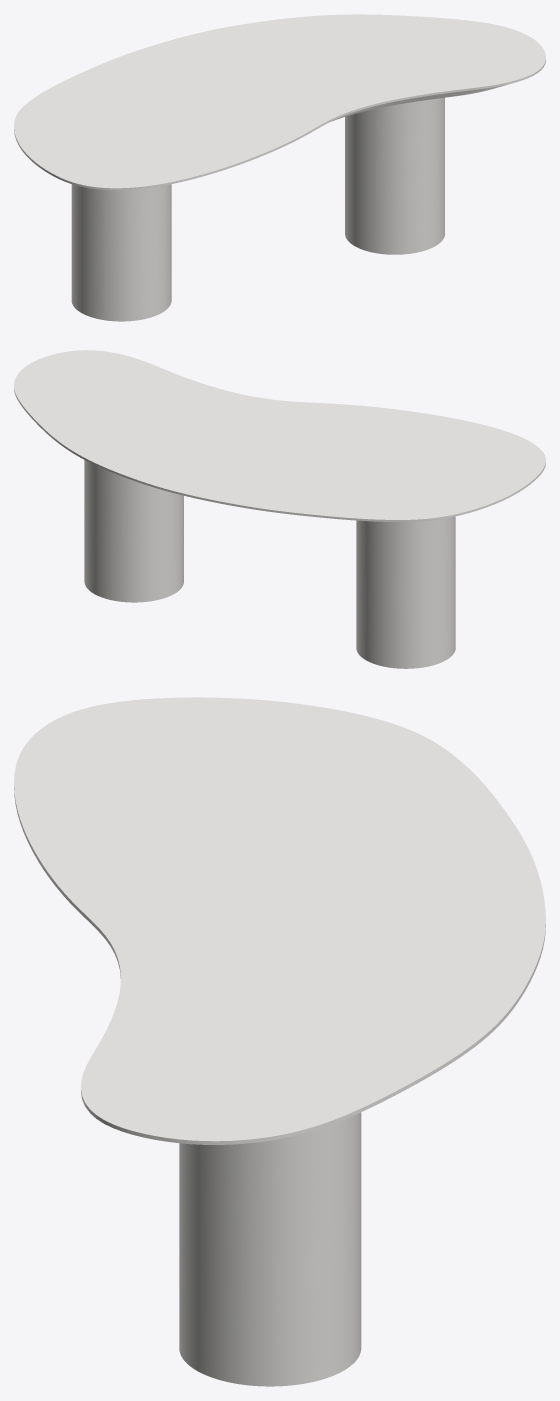
The model's file is purewhite_leaf1_facet_stream.glb.
The picture shows the model from 3 angles, top to bottom: view 1: azimuth 30°, elevation 25°; view 2: azimuth 150°, elevation 25°; view 3: azimuth 270°, elevation 25°; orthographic projection. The views are drawn at different scales.
Parts seen in each view (by area): view 1: facet_leaf1, stream; view 2: facet_leaf1, stream; view 3: facet_leaf1, stream.
Boxes of the visible parts, box(x1,y1,x2,y2) form: facet_leaf1: box(14, 14, 545, 190); stream: box(71, 97, 444, 321); facet_leaf1: box(14, 350, 545, 521); stream: box(84, 460, 455, 668); facet_leaf1: box(14, 697, 545, 1144); stream: box(179, 1112, 361, 1386).
Size of the model in its own units: 7.5 by 2.5 by 3.8.
Materials: 1 (1 with a texture image).
